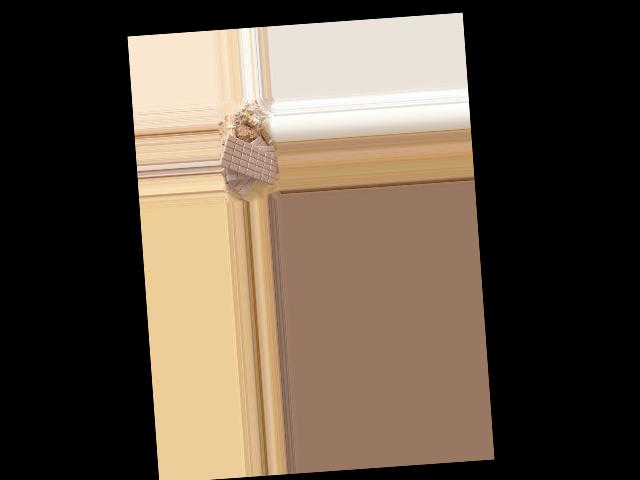chocolate: (218, 128, 277, 189)
